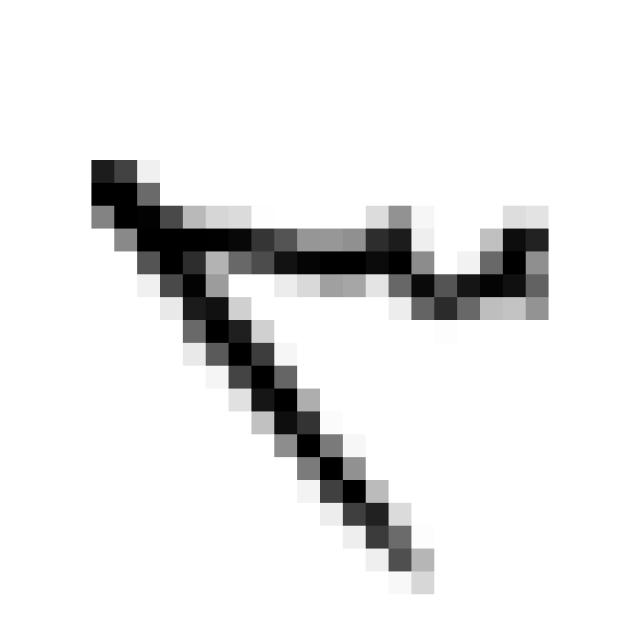3 -three-: (68, 132, 572, 600)
